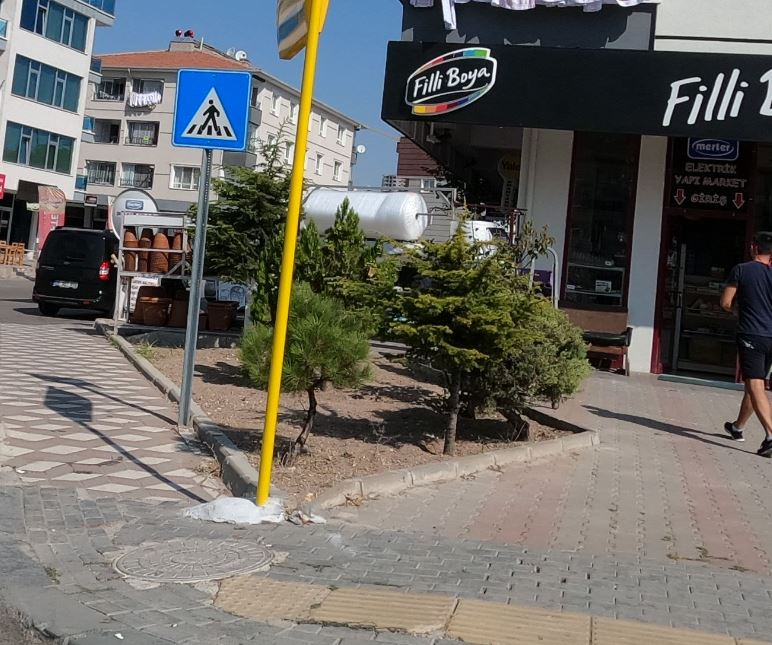Yaya Gecidi: (175, 67, 250, 151)
